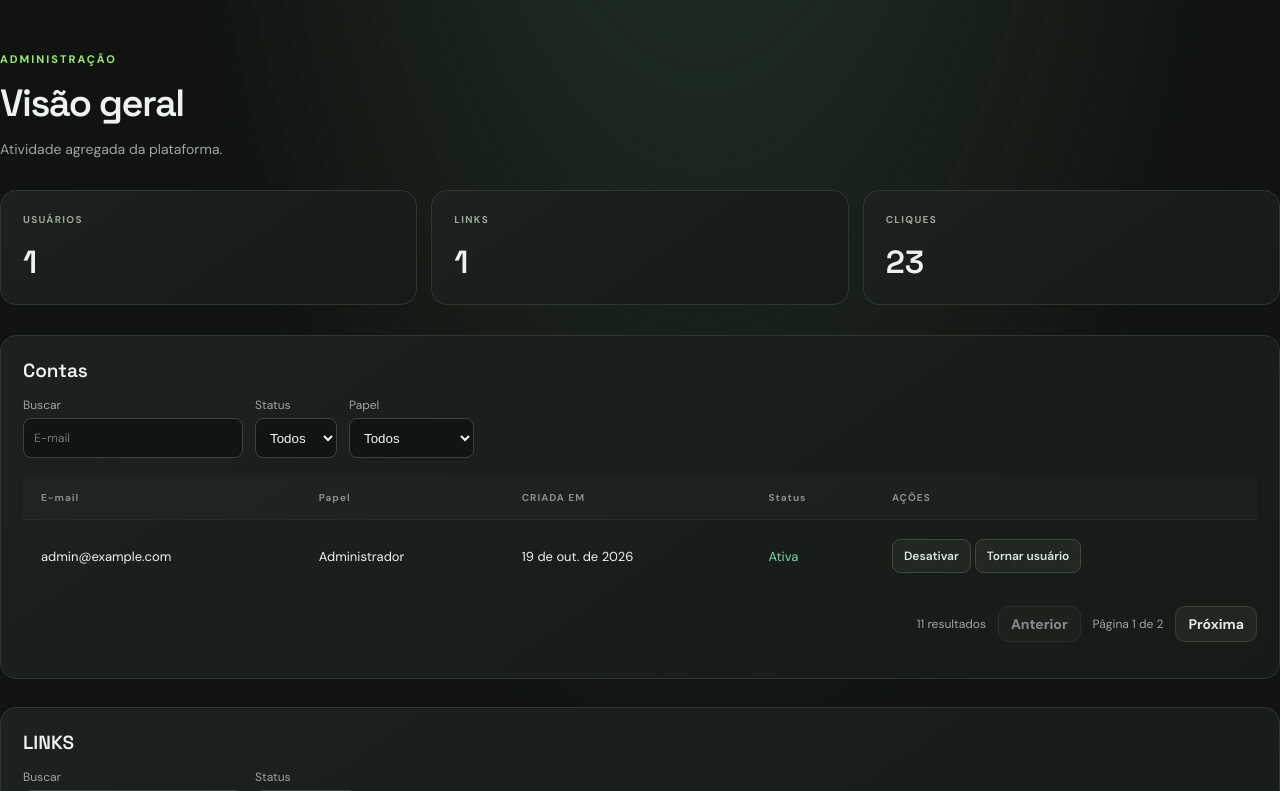
AdminView › only reflects a user role after the API succeeds
Click the button with aria-label "Alterar papel de admin@example.com". click: (1028, 556)
box: [975,539,1081,573]
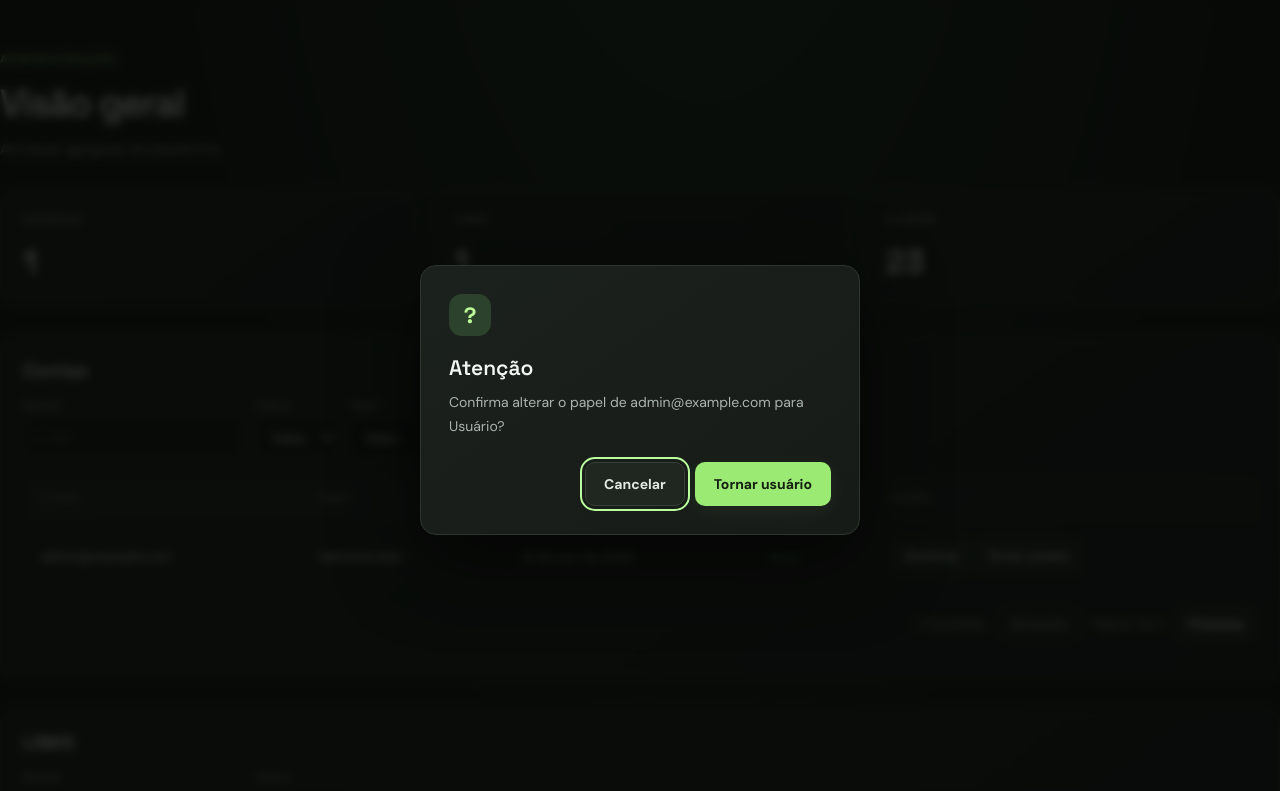
Click the button "Tornar usuário". click: (763, 484)
box: [695,462,831,506]
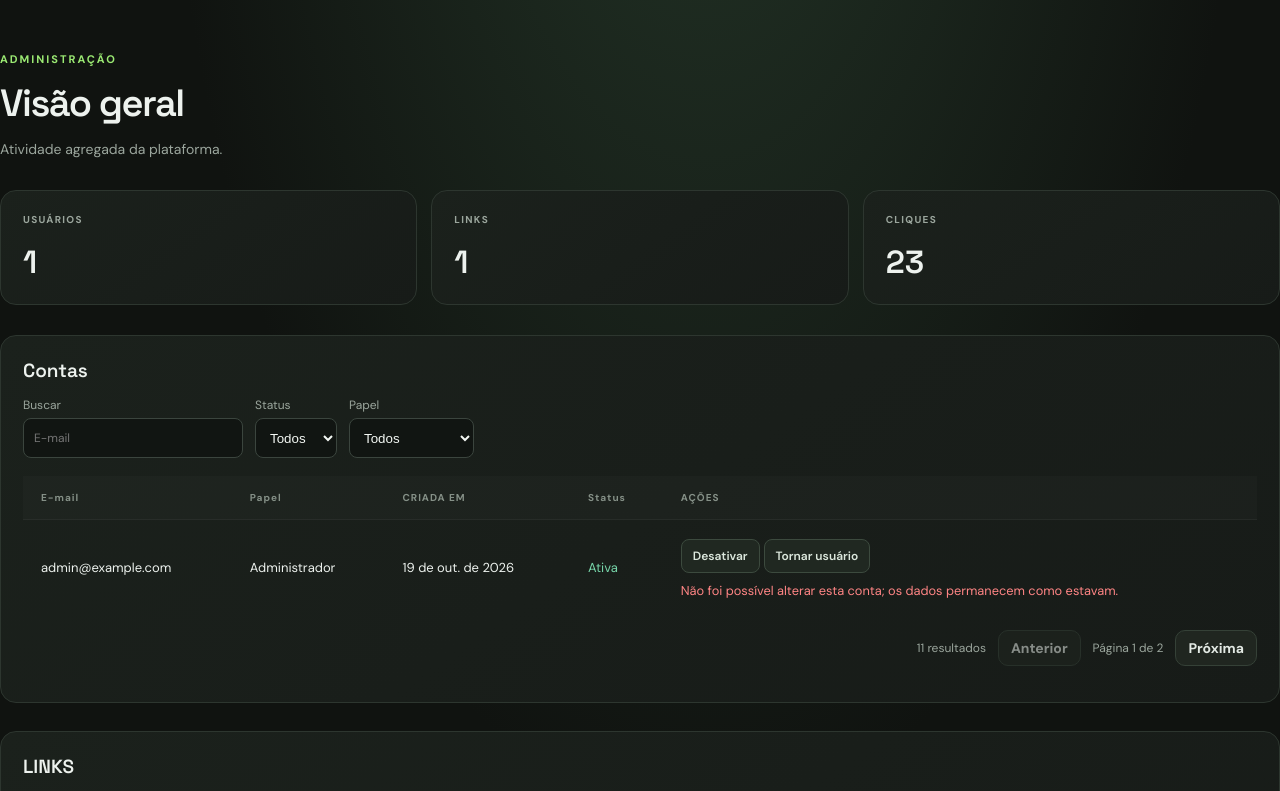
Expected: the text "Administrador" is shown, [232,520,384,616]
Now the text "Não foi possível alterar esta conta" is shown, box [681,582,1118,599]
